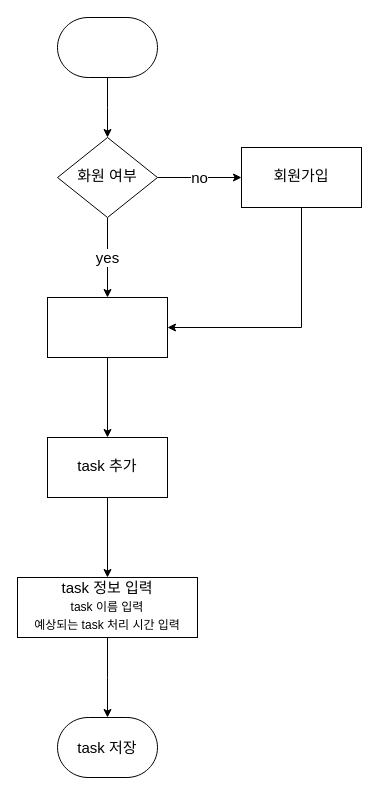
Some shapes in this 379 by 795 pixel diagram are drawn without their labels. The box of each missing label's shape, as (x1, y1, x2, y2) in pixels:
로그인: (46, 296, 168, 358)
서비스 접속: (56, 16, 158, 78)
